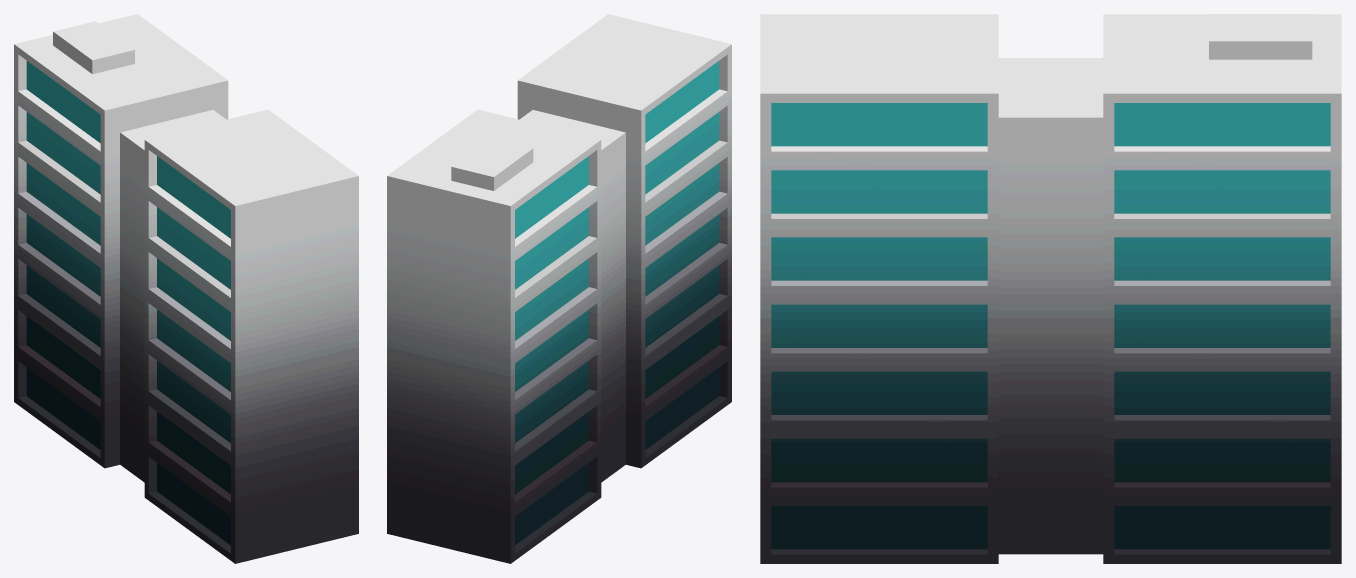
Rendered from SM_Building_Wide.fbx.
The picture shows the model from 3 angles, left to right: view 1: azimuth 30°, elevation 25°; view 2: azimuth 150°, elevation 25°; view 3: azimuth 270°, elevation 25°; orthographic projection. The views are drawn at different scales.
Visible parts, largest first — view 1: Building_Wide_1; view 2: Building_Wide_1; view 3: Building_Wide_1.
Part boxes in pixels (x1,y1,x2,y2): Building_Wide_1: (14,14,358,563); Building_Wide_1: (387,14,731,563); Building_Wide_1: (760,14,1341,563).
Bounding box in the file's own units: 6.24 × 17.92 × 19.33.
